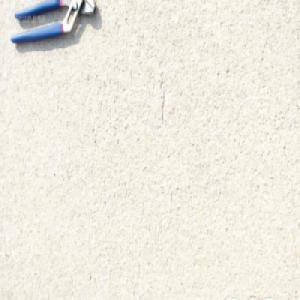Pliers: (10, 0, 98, 44)
